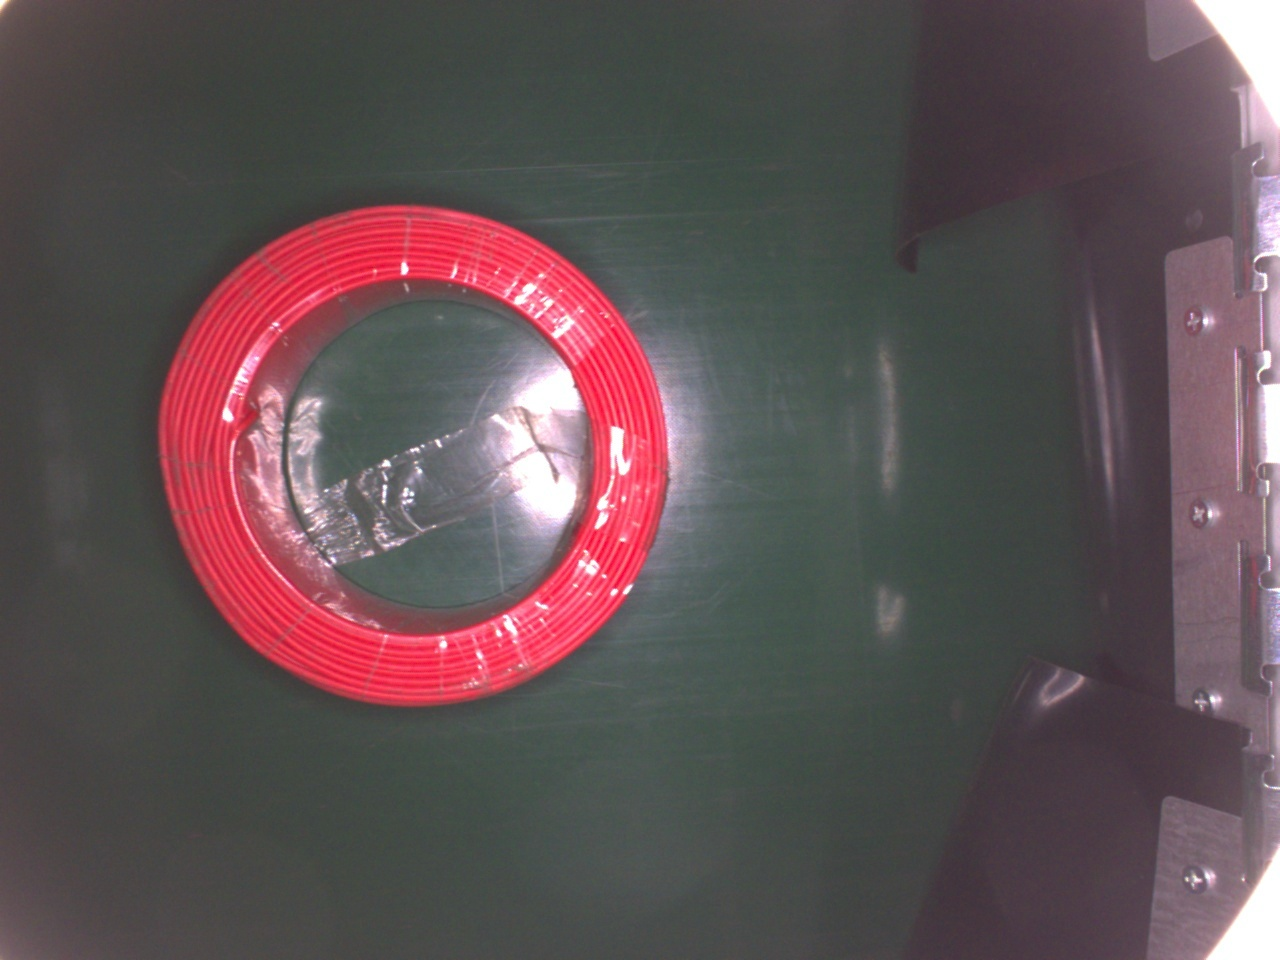red: (151, 193, 671, 714)
